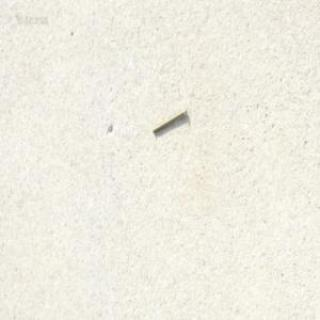Bolttrack_idkeyframe: (151, 105, 186, 133)
